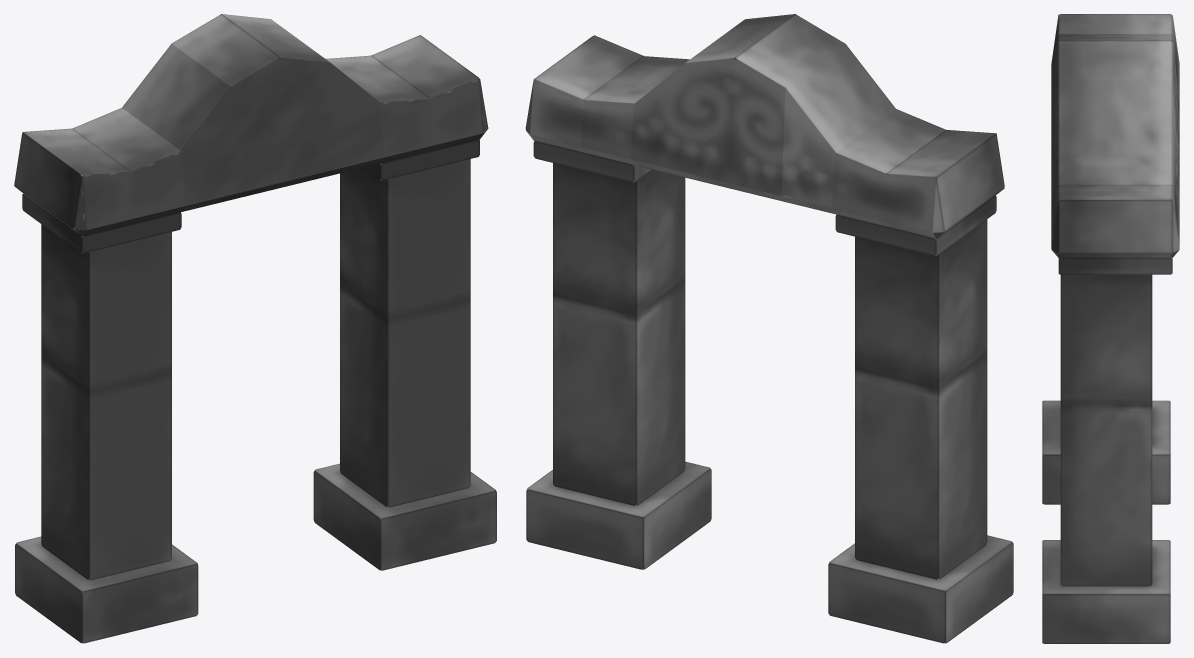
File: GraveDoor by Cherry.fbx
3 views of the same model, side by side, from view 1: azimuth 30°, elevation 25°; view 2: azimuth 150°, elevation 25°; view 3: azimuth 270°, elevation 25° (orthographic). The views are drawn at different scales.
Visible parts, largest first — view 1: beveled_cuboid, mesh_3, mesh, mesh_2, mesh_1; view 2: beveled_cuboid, mesh_3, mesh, mesh_2, mesh_1; view 3: beveled_cuboid, mesh, mesh_2, mesh_1.
Boxes of the visible parts, x1=… form: beveled_cuboid: x1=14, y1=14, x2=488, y2=253; mesh_3: x1=41, y1=224, x2=171, y2=580; mesh: x1=340, y1=159, x2=470, y2=507; mesh_2: x1=313, y1=463, x2=496, y2=570; mesh_1: x1=15, y1=536, x2=198, y2=643; beveled_cuboid: x1=525, y1=14, x2=1004, y2=255; mesh_3: x1=855, y1=219, x2=987, y2=579; mesh: x1=553, y1=163, x2=685, y2=505; mesh_2: x1=526, y1=461, x2=711, y2=569; mesh_1: x1=828, y1=535, x2=1013, y2=643; beveled_cuboid: x1=1051, y1=14, x2=1179, y2=274; mesh: x1=1060, y1=274, x2=1152, y2=586; mesh_2: x1=1042, y1=540, x2=1170, y2=643; mesh_1: x1=1042, y1=400, x2=1170, y2=504.
Bounding box in the file's own units: 312 × 381 × 93.75.
Materials: 1 (1 with a texture image).
